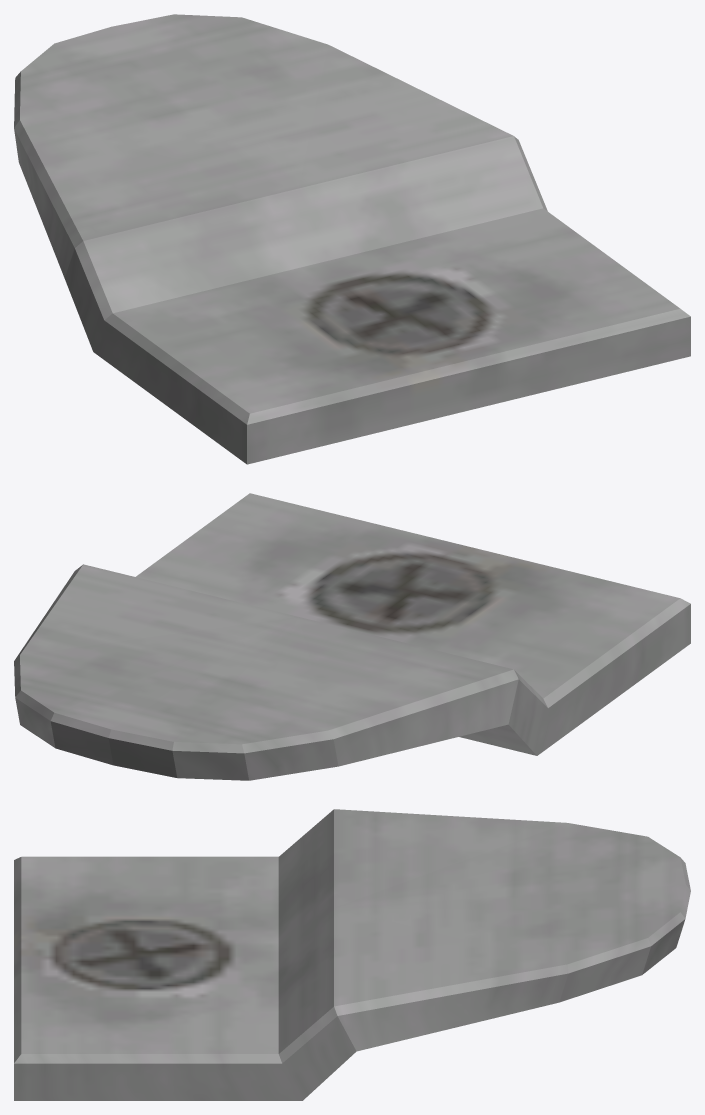
Rendered from hanger.FBX.
3 renders of one model, top to bottom at view 1: azimuth 30°, elevation 25°; view 2: azimuth 150°, elevation 25°; view 3: azimuth 270°, elevation 25°, orthographic. The views are drawn at different scales.
Parts seen in each view (by area): view 1: SM_Hanger; view 2: SM_Hanger; view 3: SM_Hanger.
Boxes of the visible parts, bbox=[...] form: SM_Hanger: bbox=[14, 14, 690, 464]; SM_Hanger: bbox=[14, 493, 690, 780]; SM_Hanger: bbox=[14, 809, 690, 1100].
Size of the model in its own units: 2 by 0.5244 by 2.81.
1 material, 1 textured.
